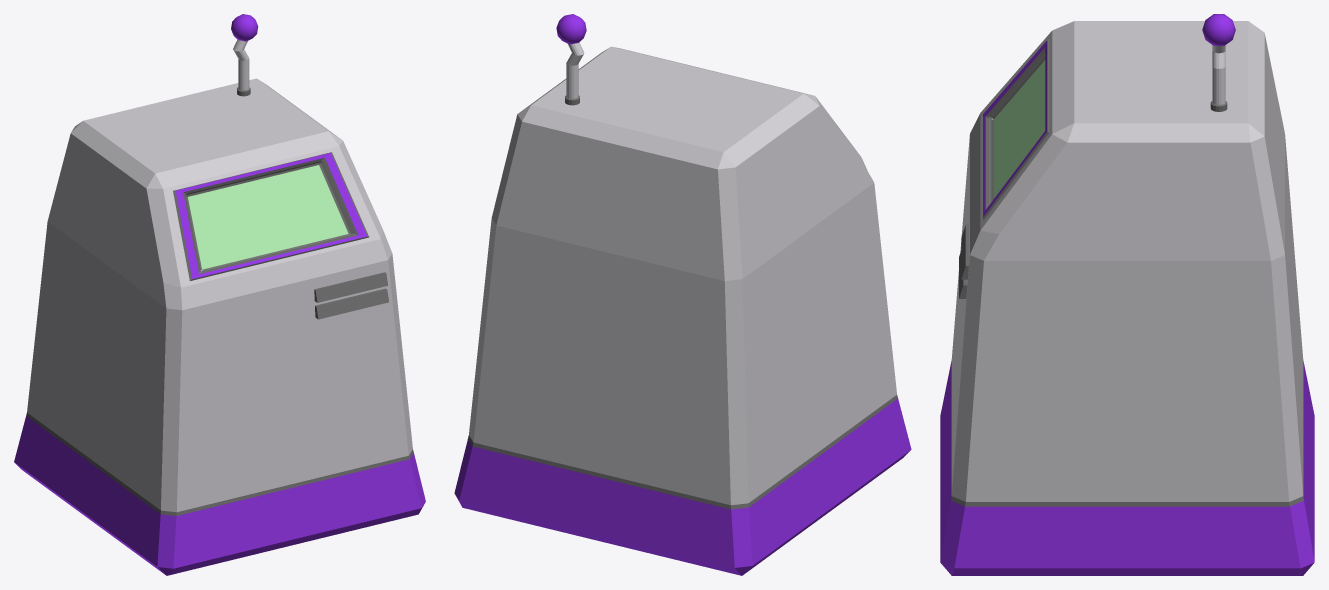
Rendered from botBattle.fbx.
3 views of the same model, side by side, from view 1: azimuth 30°, elevation 25°; view 2: azimuth 150°, elevation 25°; view 3: azimuth 270°, elevation 25° (orthographic). The views are drawn at different scales.
Visible parts, largest first — view 1: Bot - Battle; view 2: Bot - Battle; view 3: Bot - Battle.
Boxes of the visible parts, box(x1,y1,x2,y2) form: Bot - Battle: box(14, 14, 425, 575); Bot - Battle: box(454, 14, 911, 575); Bot - Battle: box(940, 14, 1314, 575).
Size of the model in its own units: 82.85 by 82.85 by 128.
